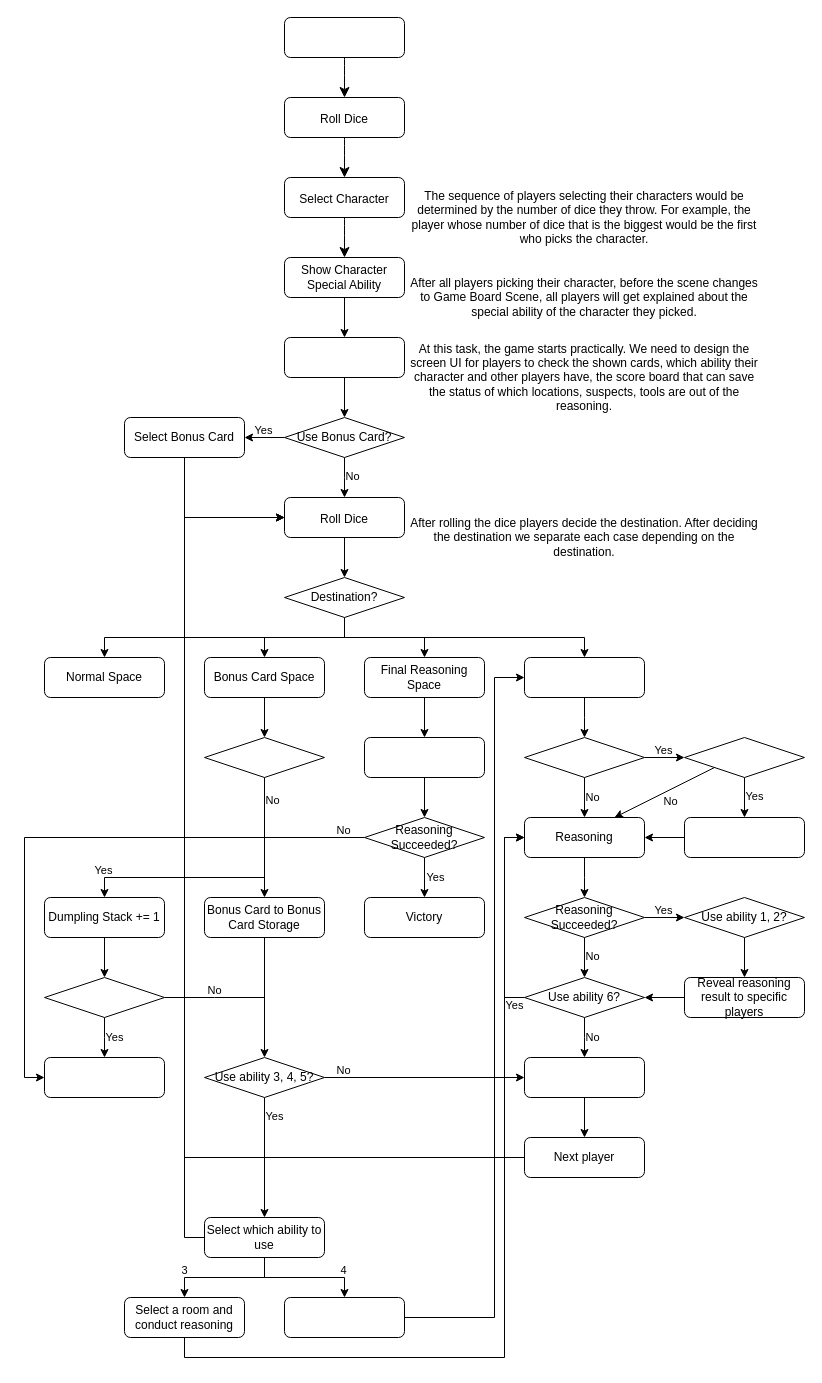
Image size: 822x1383. Some labels were removed from this diagram. The centre of each missing label's shape, as x and y in pixels:
Defeat: the point at 104,1077
Dumpling Card?: the point at 264,757
Dumpling Stack == 8: the point at 104,997
End of turn: the point at 584,1077
Game board scene: the point at 344,357
Game Start: the point at 344,37
Have Vent?: the point at 584,757
Move Room: the point at 744,837
Reveal reasoning result: the point at 424,757
Room Space: the point at 584,677
Select a room to move: the point at 344,1317
Use Vent?: the point at 744,757
